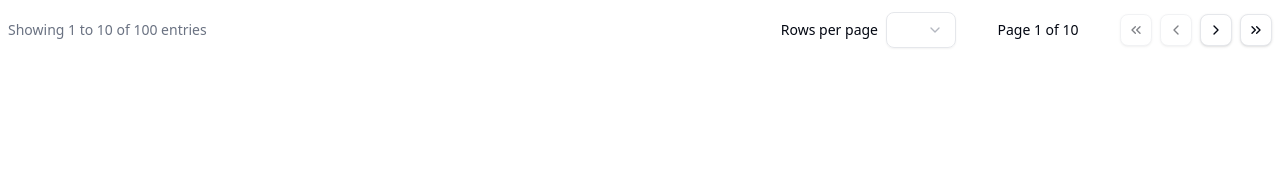
Test case: DataTablePagination › supports custom pageSizeOptions
Note: Should render custom page size options
Click the dropdown at (921, 30), box left=886, top=12, right=956, bottom=48
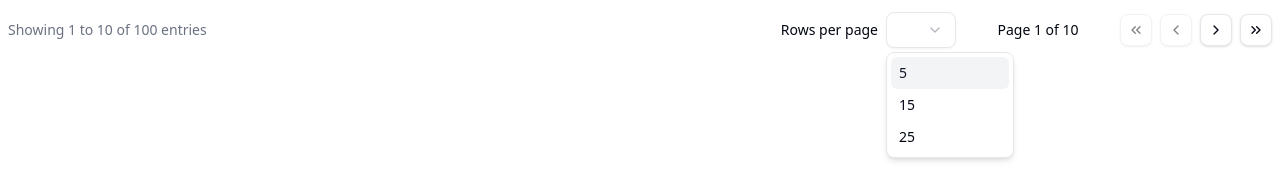
Result: the text "5" is shown at left=899, top=63, right=907, bottom=83
Result: the text "15" is shown at left=899, top=95, right=915, bottom=115
Result: the text "25" is shown at left=899, top=127, right=915, bottom=147
